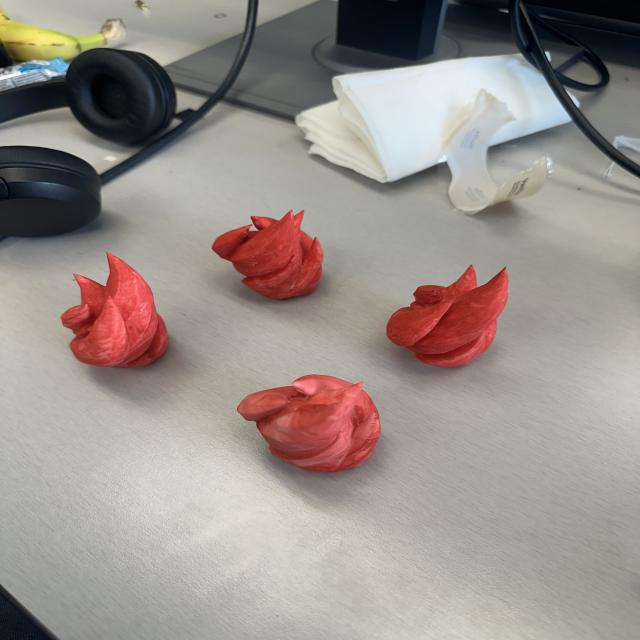fire: (232, 374, 386, 474), (59, 250, 172, 370), (386, 263, 511, 370), (210, 207, 326, 302)
